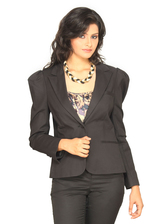clothoes: (17, 59, 152, 189)
